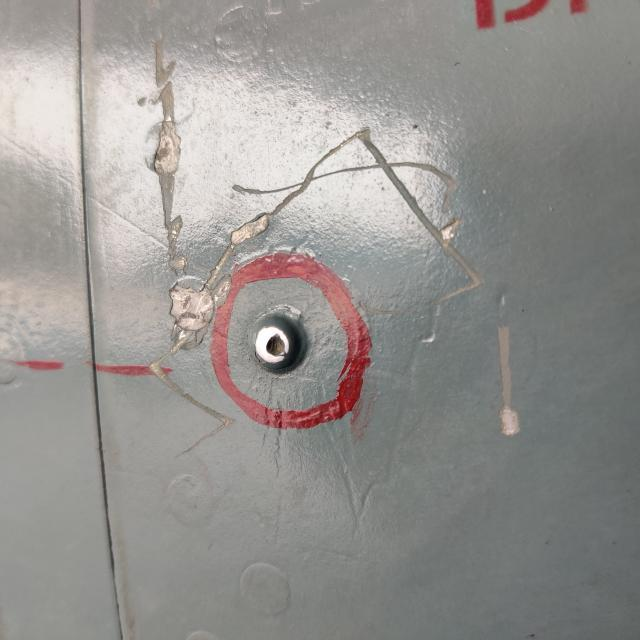scratch: (217, 105, 510, 316), (113, 26, 214, 282), (144, 322, 240, 466), (474, 315, 538, 448)
